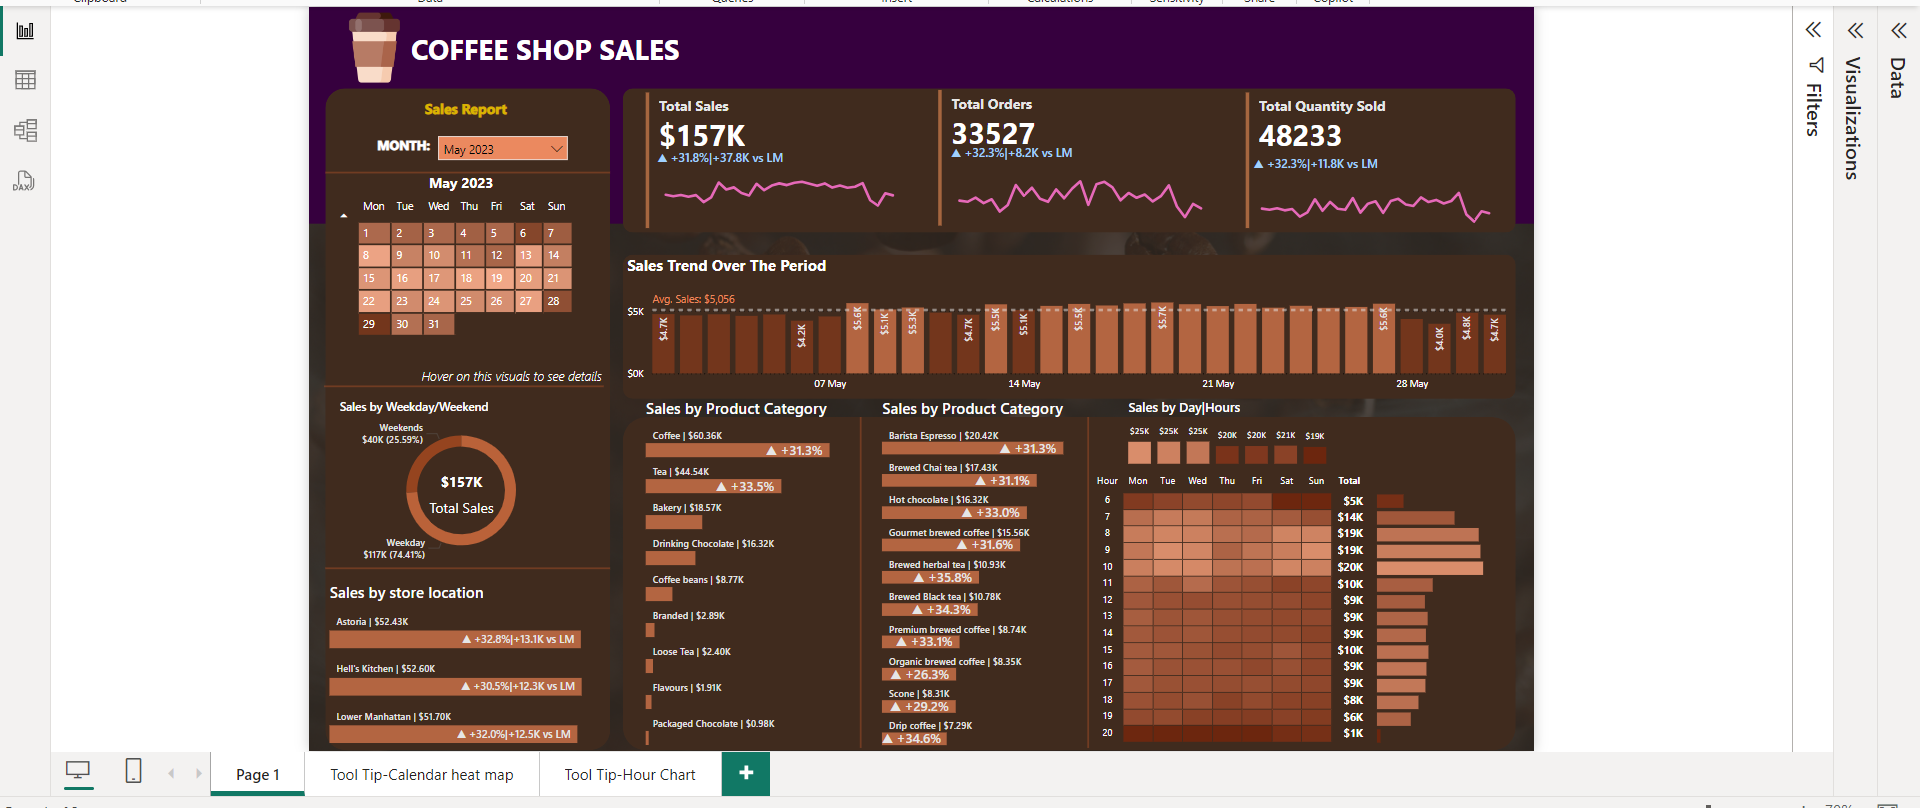

What the dashboard file says about the page in this screenshot:
{"tool":"powerbi","page":{"name":"Page 1","canvas":[1400,850],"ordinal":0},"visuals":[{"type":"shape","box":[0,0,1400.3,247.6],"z":0},{"type":"cardVisual","fields":{"Data":["Transactions.Total Orders"]},"box":[714.7,90.1,300.2,165.1],"z":0,"group":"g3"},{"type":"cardVisual","fields":{"Data":["Transactions.Total Sales"]},"box":[379.7,93.1,300.2,165.1],"z":0,"group":"g1"},{"type":"cardVisual","fields":{"Data":["Transactions.Total Quantity Sold"]},"box":[1066.3,93.1,300.2,165.1],"z":0,"group":"g4"},{"type":"shape","box":[18,93.1,325.7,756.4],"z":1000},{"type":"lineChart","fields":{"Category":["Date Table.Date.Variation.Date Hierarchy.Year","Date Table.Date.Variation.Date Hierarchy.Quarter","Date Table.Date.Variation.Date Hierarchy.Month","Date Table.Date.Variation.Date Hierarchy.Day"],"Y":["Transactions.Total Orders"]},"box":[728.4,157.6,306.2,90.1],"z":1000,"group":"g3"},{"type":"lineChart","fields":{"Y":["Transactions.Total Sales"],"Category":["Date Table.Date.Variation.Date Hierarchy.Year","Date Table.Date.Variation.Date Hierarchy.Quarter","Date Table.Date.Variation.Date Hierarchy.Month","Date Table.Date.Variation.Date Hierarchy.Day"]},"box":[392.4,163.8,289.7,85.5],"z":1000,"group":"g1"},{"type":"lineChart","fields":{"Category":["Date Table.Date.Variation.Date Hierarchy.Year","Date Table.Date.Variation.Date Hierarchy.Quarter","Date Table.Date.Variation.Date Hierarchy.Month","Date Table.Date.Variation.Date Hierarchy.Day"],"Y":["Transactions.Total Quantity Sold"]},"box":[1074.4,169.6,289.7,85.5],"z":1000,"group":"g4"},{"type":"shape","box":[358.7,93.1,1020.6,165.1],"z":2000},{"type":"textbox","box":[111.1,21,348.2,69],"z":3000},{"type":"slicer","fields":{"Values":["Date Table.Month Year"]},"box":[142.6,142.6,157.6,33],"z":4000},{"type":"group","id":"g1","title":"Group 1","box":[379.7,93.1,303.2,165.1],"z":5000},{"type":"group","id":"g2","title":"Group 1","box":[714.7,90.1,319.8,165.1],"z":6000},{"type":"group","id":"g3","title":"Group 3","box":[714.7,90.1,319.8,165.1],"z":6002,"group":"g2"},{"type":"group","id":"g4","title":"Group 2","box":[1066.3,93.1,300.2,165.1],"z":6002,"group":"g5"},{"type":"group","id":"g5","title":"Group 1","box":[1066.3,93.1,300.2,165.1],"z":7000},{"type":"pivotTable","fields":{"Columns":["Date Table.Day Name"],"Rows":["Date Table.Week no."],"Values":["Min(Date Table.DATE No.)"]},"box":[25.5,211.6,292.7,199.6],"z":8000},{"type":"cardVisual","fields":{"Data":["Min(Date Table.Month Year)"]},"box":[120.1,163.6,108.1,58.5],"z":9000},{"type":"cardVisual","fields":{"Data":["Transactions.Foot Note"]},"box":[111.1,387.2,247.6,46.5],"z":10000},{"type":"shape","box":[16.5,420.2,319.7,27],"z":11000},{"type":"shape","box":[18,175.6,325.7,27],"z":12000},{"type":"donutChart","title":"Sales by Weekday/Weekend","fields":{"Category":["Date Table.Weekday/Weekend"],"Y":["Transactions.Total Sales"]},"box":[30,447.3,288.2,193.6],"z":13000},{"type":"cardVisual","fields":{"Data":["Transactions.Total Sales"]},"box":[115.6,514.8,117.1,85.5],"z":14000},{"type":"shape","box":[18,625.9,325.7,31.5],"z":15000},{"type":"clusteredBarChart","title":"Sales by store location","fields":{"Category":["Transactions.store_location"],"Y":["Transactions.PLace Holder","Transactions.Total Sales"]},"box":[18,657.4,325.7,192.1],"z":16000},{"type":"shape","box":[358.7,282.2,1020.6,165.1],"z":17000},{"type":"columnChart","title":"Sales Trend Over The Period","fields":{"Y":["Transactions.Total Sales"],"Category":["Transactions.transaction_date"]},"box":[358.7,282.2,1020.6,165.1],"z":18000},{"type":"shape","box":[358.7,468.3,1020.6,381.2],"z":19000},{"type":"clusteredBarChart","title":"Sales by Product Category","fields":{"Y":["Transactions.PLace Holder","Transactions.Total Sales"],"Category":["Transactions.product_category"]},"box":[379.7,447.3,250.6,402.2],"z":20000},{"type":"shape","box":[619.9,468.3,21,378.2],"z":21000},{"type":"clusteredBarChart","title":"Sales by Product Category","fields":{"Y":["Transactions.PLace Holder","Transactions.Total Sales"],"Category":["Transactions.product_type"]},"box":[649.9,447.3,250.6,402.2],"z":22000},{"type":"shape","box":[879.5,468.3,21,378.2],"z":23000},{"type":"pivotTable","fields":{"Rows":["Transactions.Hour"],"Columns":["Date Table.Day Name"],"Values":["Transactions.Total Sales"]},"box":[890,528.3,328.7,321.2],"z":24000},{"type":"barChart","fields":{"Category":["Transactions.Hour"],"Y":["Transactions.Total Sales"]},"box":[1215.7,544.8,133.6,301.7],"z":25000},{"type":"columnChart","title":"Sales by Day|Hours","fields":{"Y":["Transactions.Total Sales"],"Category":["Date Table.Day Name"]},"box":[932,447.3,237.1,81],"z":26000},{"type":"textbox","box":[73.5,142.6,108.1,33],"z":26001},{"type":"textbox","box":[127.6,100.6,142.6,42],"z":26002},{"type":"image","box":[30,0,90.1,93.1],"z":26003}]}

Visuals, with their boxes on the page's 1400x850 design canvas (x1, y1, x2, y2). These are canvas units, not pixel positions in the 1920x808 screenshot, which may show the page scaled, cropped or inside an application window:
shape: x1=0 y1=0 x2=1400 y2=248
cardVisual - Transactions.Total Orders: x1=715 y1=90 x2=1015 y2=255
cardVisual - Transactions.Total Sales: x1=380 y1=93 x2=680 y2=258
cardVisual - Transactions.Total Quantity Sold: x1=1066 y1=93 x2=1366 y2=258
shape: x1=18 y1=93 x2=344 y2=850
lineChart - Date Table.Date.Variation.Date Hierarchy.Year x Date Table.Date.Variation.Date Hierarchy.Quarter: x1=728 y1=158 x2=1035 y2=248
lineChart - Transactions.Total Sales x Date Table.Date.Variation.Date Hierarchy.Year: x1=392 y1=164 x2=682 y2=249
lineChart - Date Table.Date.Variation.Date Hierarchy.Year x Date Table.Date.Variation.Date Hierarchy.Quarter: x1=1074 y1=170 x2=1364 y2=255
shape: x1=359 y1=93 x2=1379 y2=258
textbox: x1=111 y1=21 x2=459 y2=90
slicer - Date Table.Month Year: x1=143 y1=143 x2=300 y2=176
"Group 1" group: x1=380 y1=93 x2=683 y2=258
"Group 1" group: x1=715 y1=90 x2=1034 y2=255
"Group 3" group: x1=715 y1=90 x2=1034 y2=255
"Group 2" group: x1=1066 y1=93 x2=1366 y2=258
"Group 1" group: x1=1066 y1=93 x2=1366 y2=258
pivotTable - Date Table.Day Name x Date Table.Week no.: x1=26 y1=212 x2=318 y2=411
cardVisual - Min(Date Table.Month Year): x1=120 y1=164 x2=228 y2=222
cardVisual - Transactions.Foot Note: x1=111 y1=387 x2=359 y2=434
shape: x1=16 y1=420 x2=336 y2=447
shape: x1=18 y1=176 x2=344 y2=203
"Sales by Weekday/Weekend" donutChart: x1=30 y1=447 x2=318 y2=641
cardVisual - Transactions.Total Sales: x1=116 y1=515 x2=233 y2=600
shape: x1=18 y1=626 x2=344 y2=657
"Sales by store location" clusteredBarChart: x1=18 y1=657 x2=344 y2=850
shape: x1=359 y1=282 x2=1379 y2=447
"Sales Trend Over The Period" columnChart: x1=359 y1=282 x2=1379 y2=447
shape: x1=359 y1=468 x2=1379 y2=850
"Sales by Product Category" clusteredBarChart: x1=380 y1=447 x2=630 y2=850
shape: x1=620 y1=468 x2=641 y2=846
"Sales by Product Category" clusteredBarChart: x1=650 y1=447 x2=900 y2=850
shape: x1=880 y1=468 x2=900 y2=846
pivotTable - Transactions.Hour x Date Table.Day Name: x1=890 y1=528 x2=1219 y2=850
barChart - Transactions.Hour x Transactions.Total Sales: x1=1216 y1=545 x2=1349 y2=846
"Sales by Day|Hours" columnChart: x1=932 y1=447 x2=1169 y2=528
textbox: x1=74 y1=143 x2=182 y2=176
textbox: x1=128 y1=101 x2=270 y2=143
image: x1=30 y1=0 x2=120 y2=93
